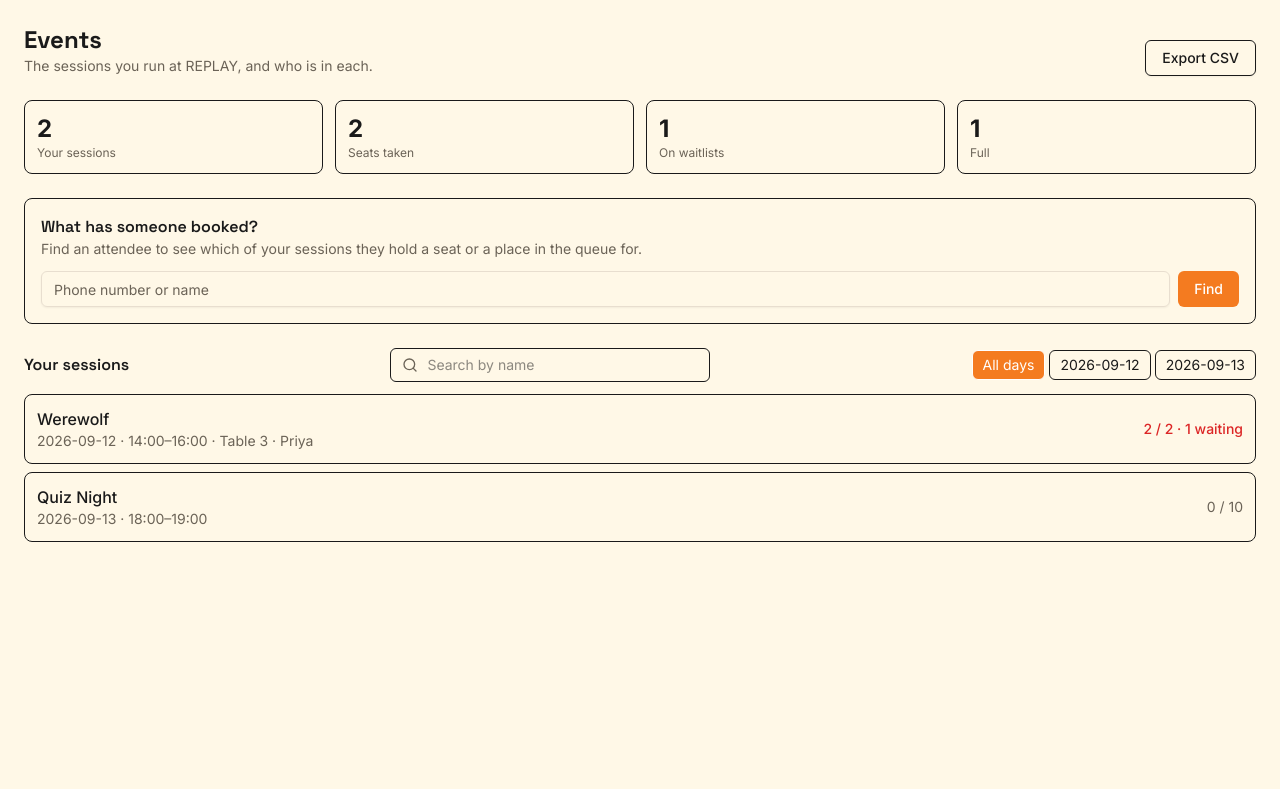
it: an event manager › can still change a booking, because everything shown is theirs
Click the text "Werewolf" at [73, 419], box [37,409,109,429]
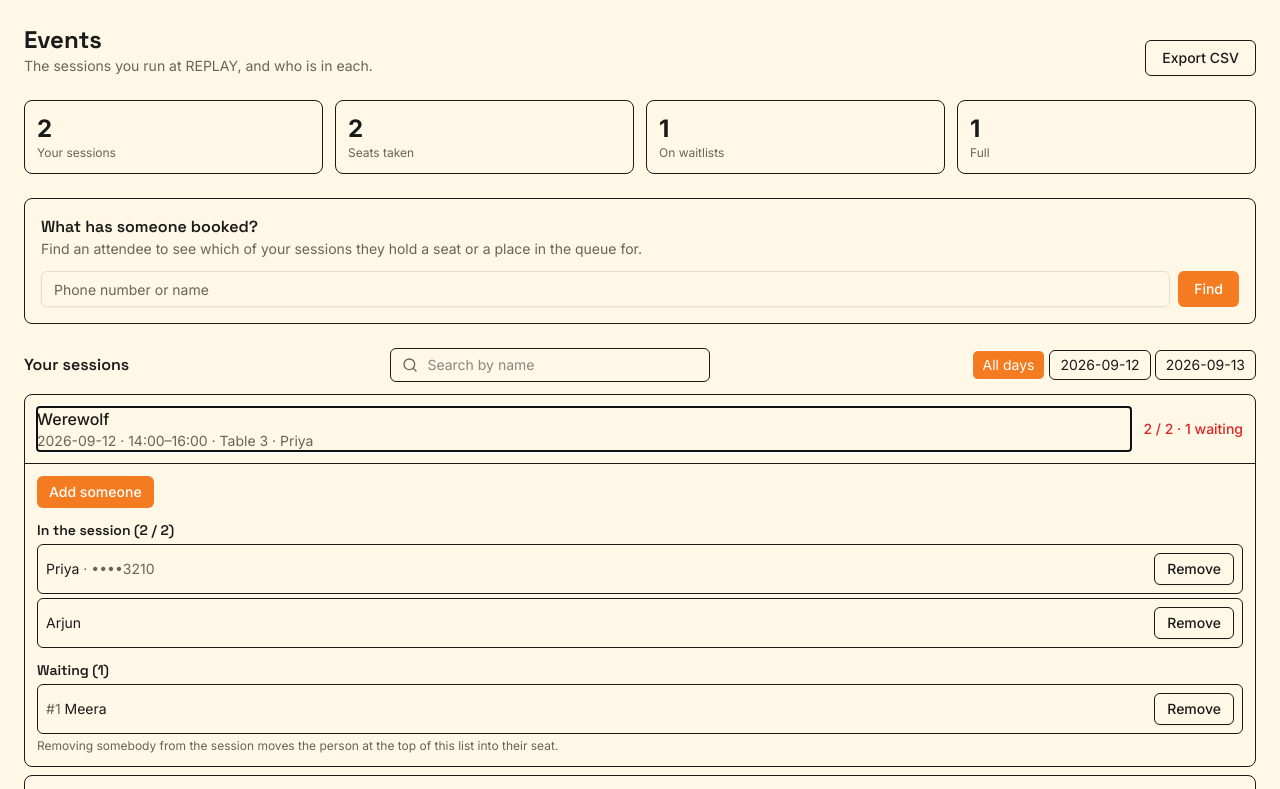
Check: the button "Add someone" is shown, box [37,476,154,508]
Check: the button "Remove" in the row of "••••3210" is shown, box [1154,553,1234,585]
